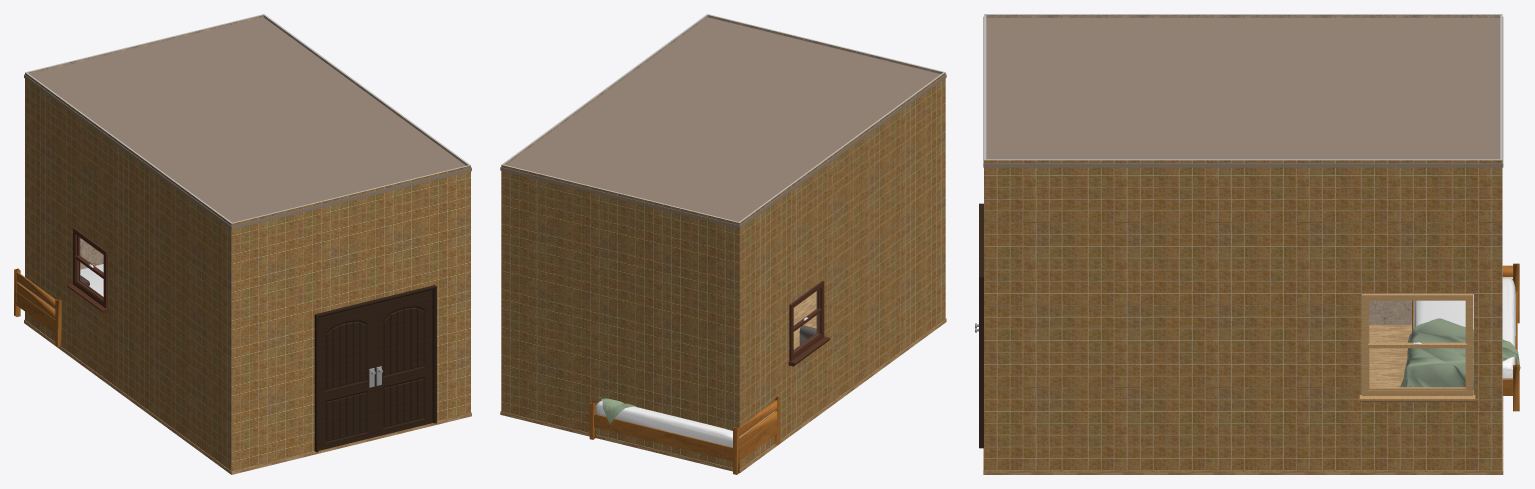
Rendered from ProcTHOR-Train-138.glb.
3 views of the same model, side by side, from view 1: azimuth 30°, elevation 25°; view 2: azimuth 150°, elevation 25°; view 3: azimuth 270°, elevation 25° (orthographic). The views are drawn at different scales.
Visible parts, largest first — view 1: Ceiling#room|2|c, WallInside#wall|exterior|3.78|0.00|3.78|5.67, WallInside#wall|exterior|0.00|5.67|3.78|5.67, Doorway_Door_9a, Doorway_Door_9b, Bed_26_2, Doorway_Double_9, Floor#room|2|f, Window_Hung_36x32, WallInside#wall|2|0.00|0.00|3.78|0.00, WallInside#wall|2|0.00|0.00|0.00|5.67; view 2: WallInside#wall|exterior|0.00|0.00|3.78|0.00, Ceiling#room|2|c, WallInside#wall|exterior|3.78|0.00|3.78|5.67, Bed_26_2, Floor#room|2|f, Window_Hung_36x32, WallInside#wall|2|0.00|5.67|3.78|5.67, WallInside#wall|2|0.00|0.00|0.00|5.67; view 3: WallInside#wall|exterior|0.00|0.00|0.00|5.67, Ceiling#room|2|c, Bed_26_2, Floor#room|2|f, Window_Hung_48x44, WallInside#wall|2|3.78|0.00|3.78|5.67, Doorway_Double_9, WallInside#wall|exterior|0.00|0.00|3.78|0.00.
Boxes of the visible parts, left/top/right/bottom form: Ceiling#room|2|c: left=24, top=17, right=471, bottom=229; WallInside#wall|exterior|3.78|0.00|3.78|5.67: left=25, top=72, right=231, bottom=470; WallInside#wall|exterior|0.00|5.67|3.78|5.67: left=231, top=165, right=470, bottom=471; Doorway_Door_9a: left=318, top=303, right=375, bottom=450; Doorway_Door_9b: left=375, top=289, right=432, bottom=436; Bed_26_2: left=14, top=264, right=103, bottom=347; Doorway_Double_9: left=314, top=285, right=436, bottom=452; Floor#room|2|f: left=24, top=319, right=471, bottom=474; Window_Hung_36x32: left=67, top=227, right=108, bottom=313; WallInside#wall|2|0.00|0.00|3.78|0.00: left=27, top=14, right=264, bottom=269; WallInside#wall|2|0.00|0.00|0.00|5.67: left=263, top=14, right=469, bottom=165; WallInside#wall|exterior|0.00|0.00|3.78|0.00: left=501, top=164, right=739, bottom=469; Ceiling#room|2|c: left=500, top=17, right=946, bottom=228; WallInside#wall|exterior|3.78|0.00|3.78|5.67: left=739, top=72, right=945, bottom=469; Bed_26_2: left=589, top=396, right=780, bottom=474; Floor#room|2|f: left=500, top=291, right=946, bottom=473; Window_Hung_36x32: left=788, top=280, right=830, bottom=366; WallInside#wall|2|0.00|5.67|3.78|5.67: left=707, top=14, right=944, bottom=73; WallInside#wall|2|0.00|0.00|0.00|5.67: left=502, top=14, right=708, bottom=164; WallInside#wall|exterior|0.00|0.00|0.00|5.67: left=984, top=160, right=1502, bottom=470; Ceiling#room|2|c: left=983, top=16, right=1503, bottom=167; Bed_26_2: left=1400, top=263, right=1520, bottom=411; Floor#room|2|f: left=983, top=325, right=1503, bottom=474; Window_Hung_48x44: left=1359, top=294, right=1475, bottom=402; WallInside#wall|2|3.78|0.00|3.78|5.67: left=984, top=14, right=1502, bottom=324; Doorway_Double_9: left=979, top=203, right=983, bottom=448; WallInside#wall|exterior|0.00|0.00|3.78|0.00: left=1501, top=14, right=1502, bottom=469.
Size of the model in its own units: 4.02 by 3.81 by 5.99.
Materials: 50 (26 with a texture image).
